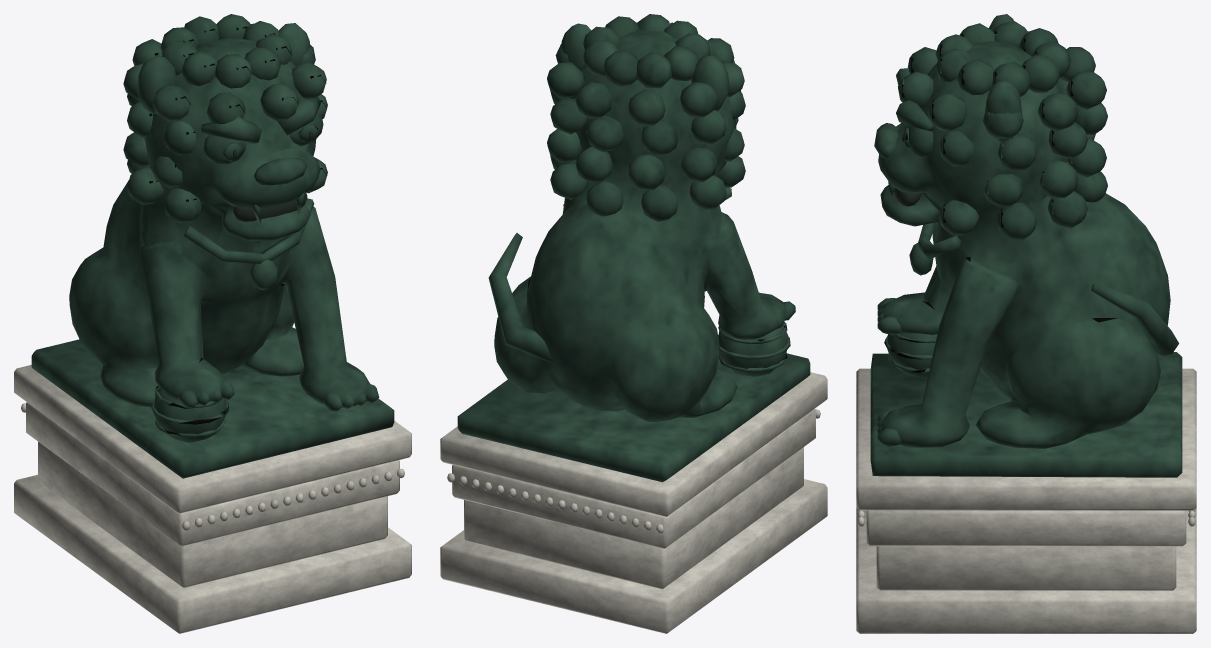
File: leijona-uros.glb
3 renders of one model, left to right at view 1: azimuth 30°, elevation 25°; view 2: azimuth 150°, elevation 25°; view 3: azimuth 270°, elevation 25°, orthographic. The views are drawn at different scales.
Parts seen in each view (by area): view 1: vihrea-pronssipatina, vaalea-kivi; view 2: vihrea-pronssipatina, vaalea-kivi; view 3: vihrea-pronssipatina, vaalea-kivi.
Part boxes in pixels (<box>): vihrea-pronssipatina: <box>31,14,394,478</box>; vaalea-kivi: <box>14,365,411,633</box>; vihrea-pronssipatina: <box>457,14,810,482</box>; vaalea-kivi: <box>440,372,827,633</box>; vihrea-pronssipatina: <box>870,14,1182,477</box>; vaalea-kivi: <box>856,368,1196,633</box>.
Bounding box in the file's own units: 2.09 × 4.4 × 2.55.
Materials: 2 (2 with a texture image).
